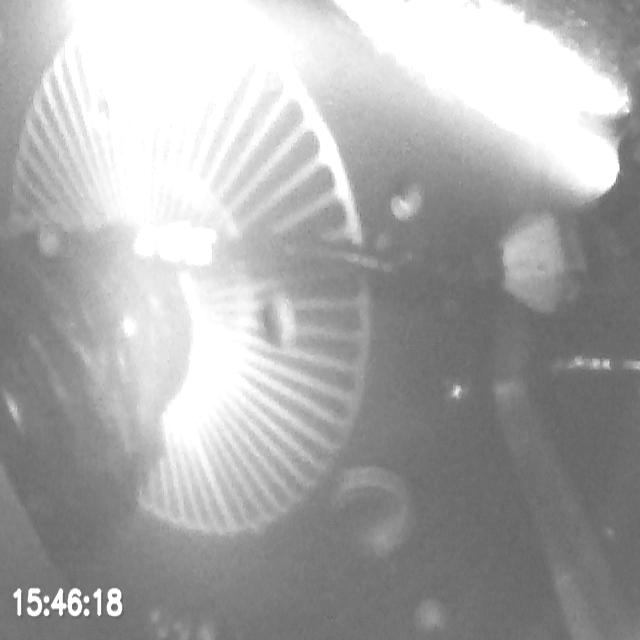head: (501, 212, 640, 314)
white-dots: (134, 222, 216, 266)
